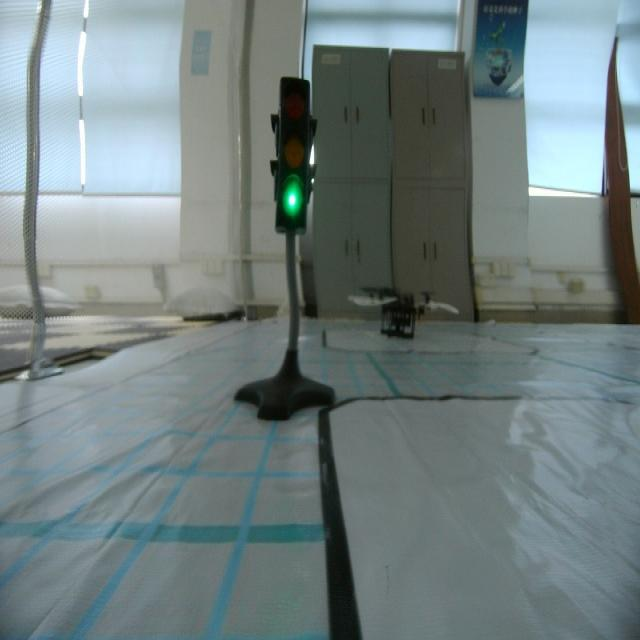green: (273, 71, 313, 237)
